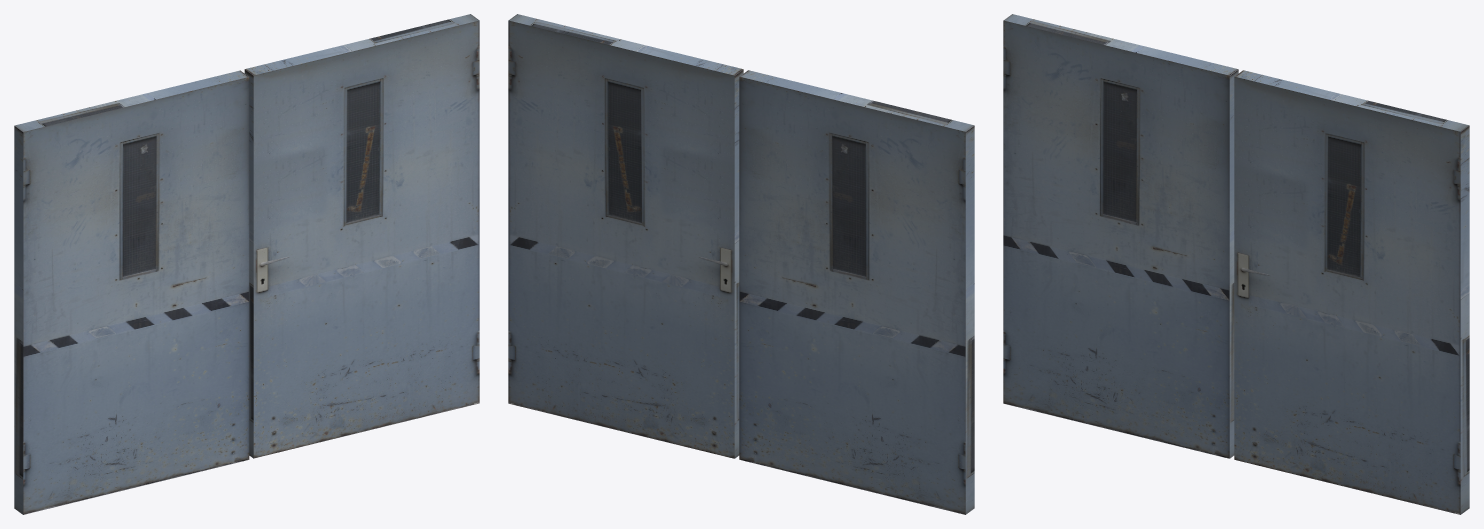
The model's file is MorgueDoor3.FBX.
3 renders of one model, left to right at view 1: azimuth 30°, elevation 25°; view 2: azimuth 150°, elevation 25°; view 3: azimuth 330°, elevation 25°, orthographic.
Visible parts, largest first — view 1: MorgueDoor03_L, MorgueDoor03_R; view 2: MorgueDoor03_L, MorgueDoor03_R; view 3: MorgueDoor03_R, MorgueDoor03_L.
Boxes of the visible parts, x1=… form: MorgueDoor03_L: x1=14, y1=70, x2=249, y2=514; MorgueDoor03_R: x1=244, y1=14, x2=479, y2=458; MorgueDoor03_L: x1=739, y1=70, x2=974, y2=514; MorgueDoor03_R: x1=508, y1=14, x2=743, y2=458; MorgueDoor03_R: x1=1234, y1=70, x2=1469, y2=514; MorgueDoor03_L: x1=1003, y1=14, x2=1238, y2=458.
Bounding box in the file's own units: 75.81 × 60.75 × 2.61.
